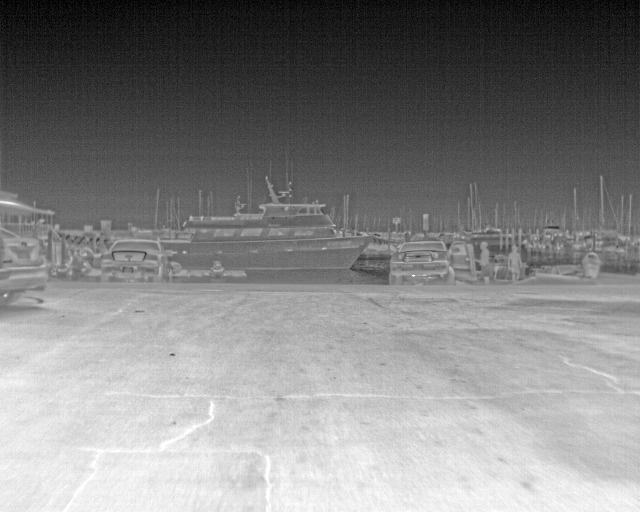bicycle: (389, 237, 477, 286), (0, 224, 49, 310), (98, 238, 177, 284)
empty: (474, 240, 494, 286), (505, 245, 523, 283)
